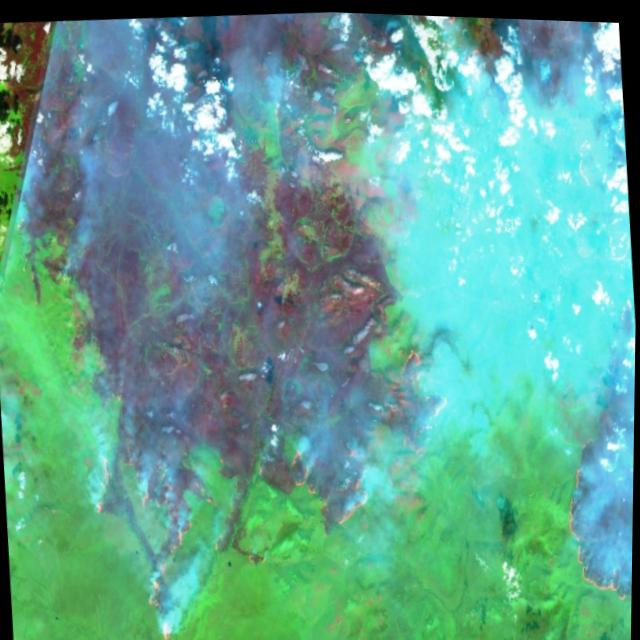fire: (85, 424, 231, 640), (284, 426, 377, 545), (382, 327, 455, 478), (11, 199, 53, 310), (231, 538, 274, 574)
